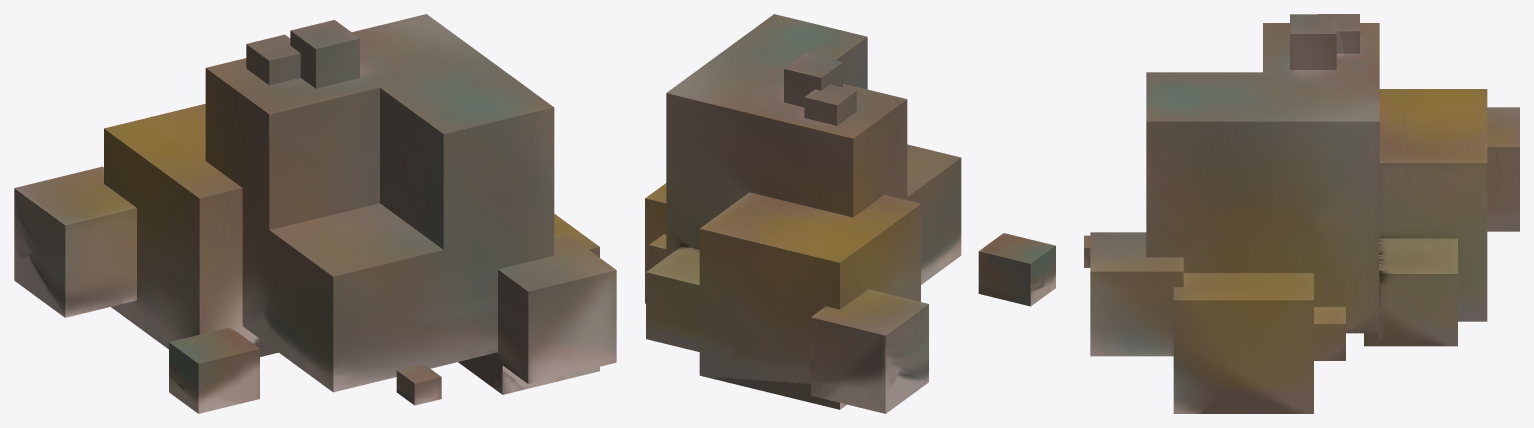
The model's file is Squares_4.glb.
The picture shows the model from 3 angles, left to right: view 1: azimuth 30°, elevation 25°; view 2: azimuth 150°, elevation 25°; view 3: azimuth 270°, elevation 25°; orthographic projection. The views are drawn at different scales.
Parts seen in each view (by area): view 1: Cube; view 2: Cube; view 3: Cube.
Part boxes in pixels (<box>): Cube: <box>14,14,616,413</box>; Cube: <box>645,14,1055,413</box>; Cube: <box>1084,14,1519,413</box>.
Bounding box in the file's own units: 3.66 × 2.85 × 3.73.
1 material, 1 textured.
